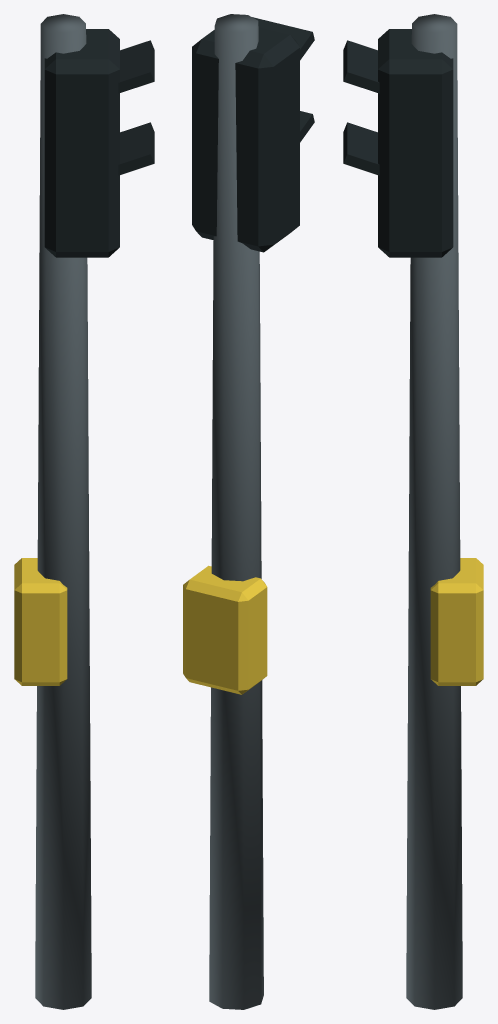
The model's file is crossing-light.glb.
3 renders of one model, left to right at view 1: azimuth 90°, elevation 25°; view 2: azimuth 150°, elevation 25°; view 3: azimuth 270°, elevation 25°, orthographic.
Visible parts, largest first — view 1: Cone, Cube, Cube.003, Cube.001, Cube.002; view 2: Cone, Cube, Cube.003, Cube.001; view 3: Cone, Cube, Cube.003, Cube.001, Cube.002.
Boxes of the visible parts, x1,y1,x2,y2 form: Cone: [35, 14, 91, 1009]; Cube: [44, 29, 119, 257]; Cube.003: [14, 558, 67, 685]; Cube.001: [118, 40, 154, 93]; Cube.002: [118, 122, 154, 175]; Cone: [209, 14, 263, 1009]; Cube: [192, 27, 299, 252]; Cube.003: [183, 565, 267, 694]; Cube.001: [252, 17, 314, 60]; Cone: [406, 14, 462, 1009]; Cube: [378, 29, 453, 257]; Cube.003: [430, 558, 483, 685]; Cube.001: [343, 40, 379, 93]; Cube.002: [343, 122, 379, 175].
Size of the model in its own units: 0.25 by 2.85 by 0.3715.
